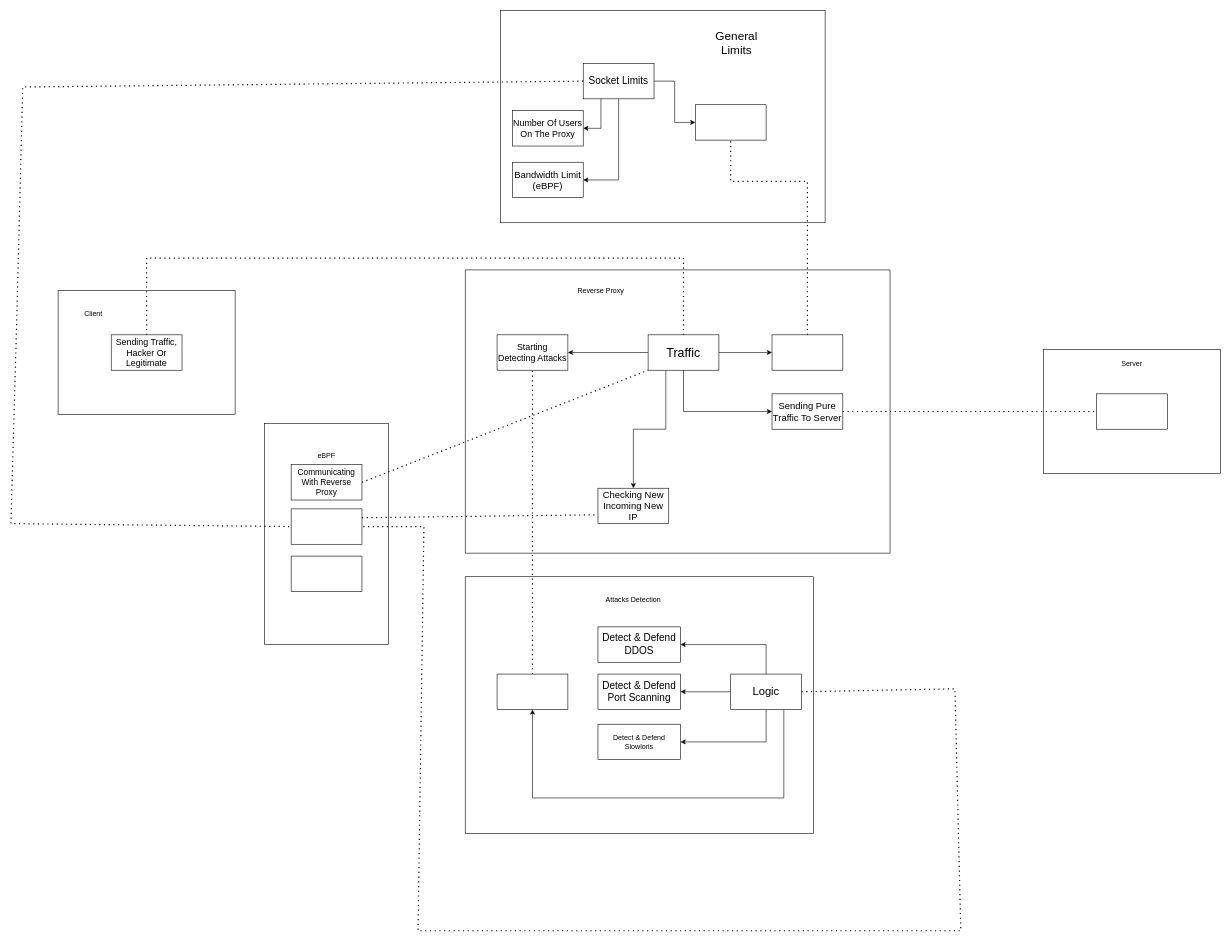
Some shapes in this 1231 by 942 pixel diagram are drawn without their labels. The shapes that lost their labels are listed below. From the top down, each one's centre as x and y in pixels, then its label:
point (730, 122): Implement General Limits
point (807, 352): Checking General Limits
point (1131, 411): Mostly For Testing Output
point (326, 526): Blocking IP
point (326, 573): Limiting Bandwidth
point (532, 691): Implement On The Reverse Proxy
